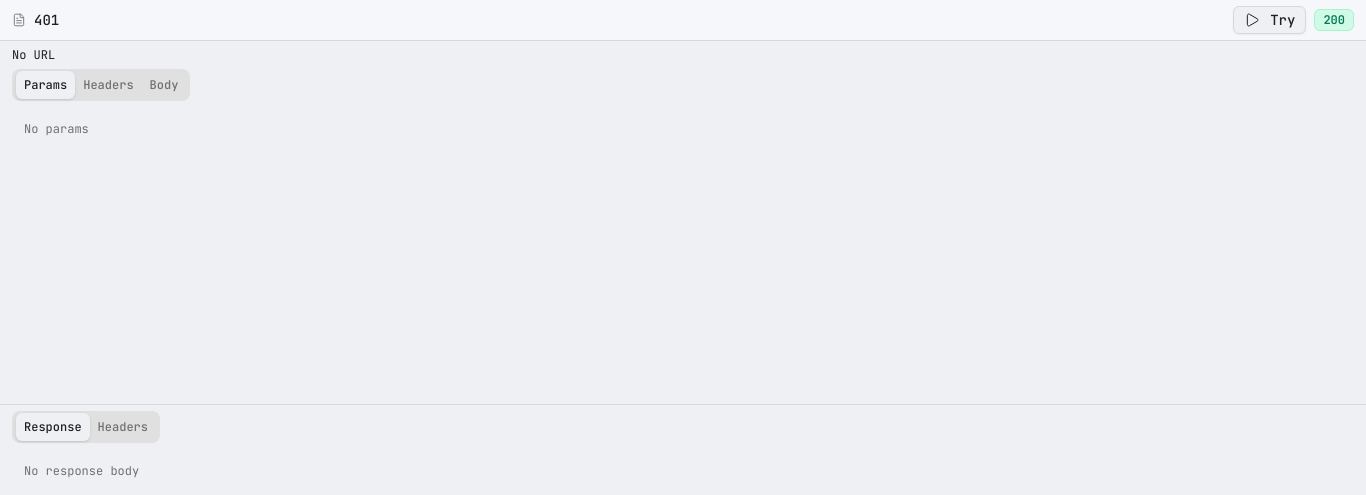
ExampleTabView › a_null_body_data_shows_the_empty_states
This screenshot has width=1366, height=495.
expect the text "No response body" is shown: met, box [24,462,139,478]
Click the tab "Body" at coordinates (164, 85), box [142,71,186,99]
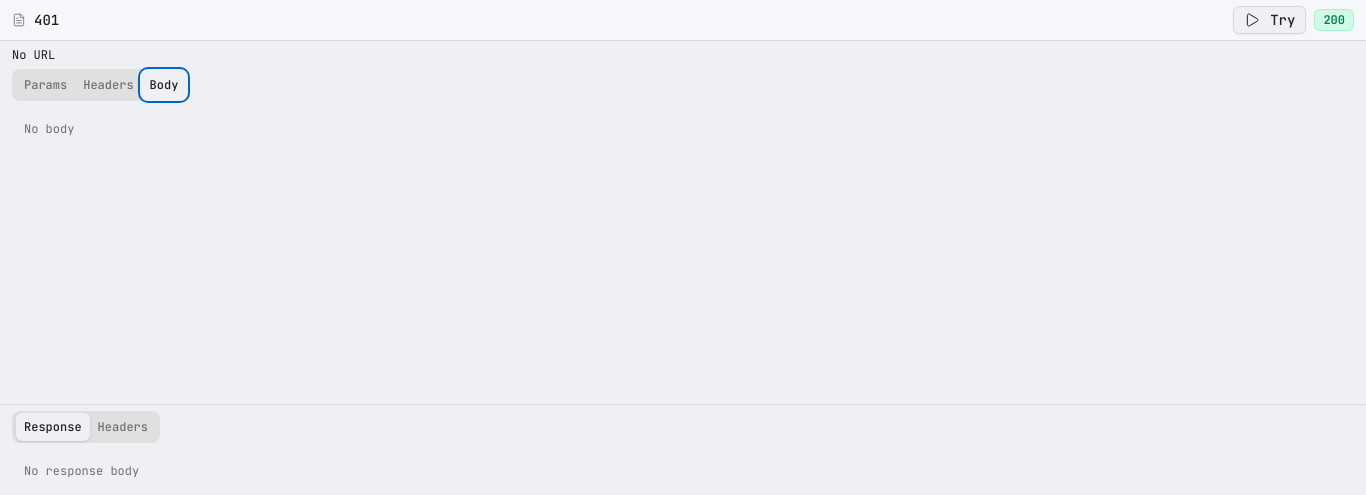
expect the text "No body" is shown: met, box [24,121,74,137]
